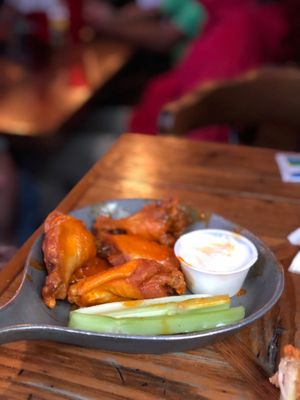sushi: (173, 228, 259, 296)
